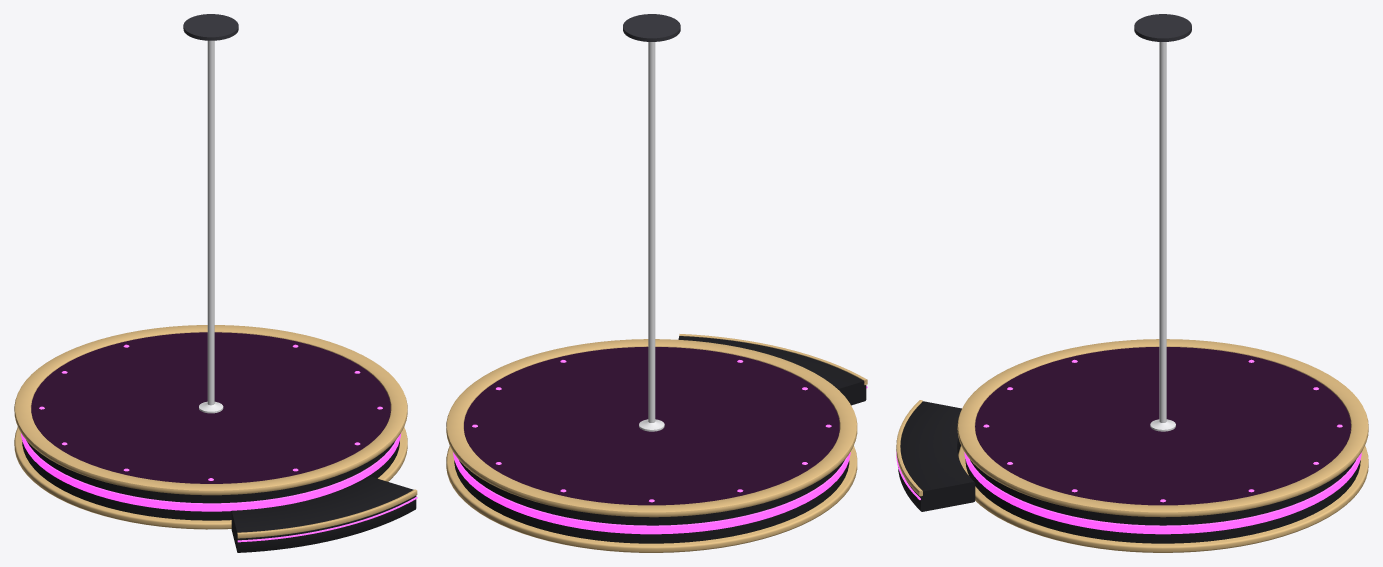
File: KIT_Palco_PoleDance.glb
3 renders of one model, left to right at view 1: azimuth 30°, elevation 25°; view 2: azimuth 150°, elevation 25°; view 3: azimuth 270°, elevation 25°, orthographic. The views are drawn at different scales.
Visible parts, largest first — view 1: KIT_Palco_PoleDance; view 2: KIT_Palco_PoleDance; view 3: KIT_Palco_PoleDance.
Part boxes in pixels (box(x1,y1,x2,y2)): KIT_Palco_PoleDance: box(14, 14, 417, 552); KIT_Palco_PoleDance: box(446, 14, 867, 552); KIT_Palco_PoleDance: box(896, 14, 1368, 552).
Bounding box in the file's own units: 2.56 × 3.03 × 2.94.
